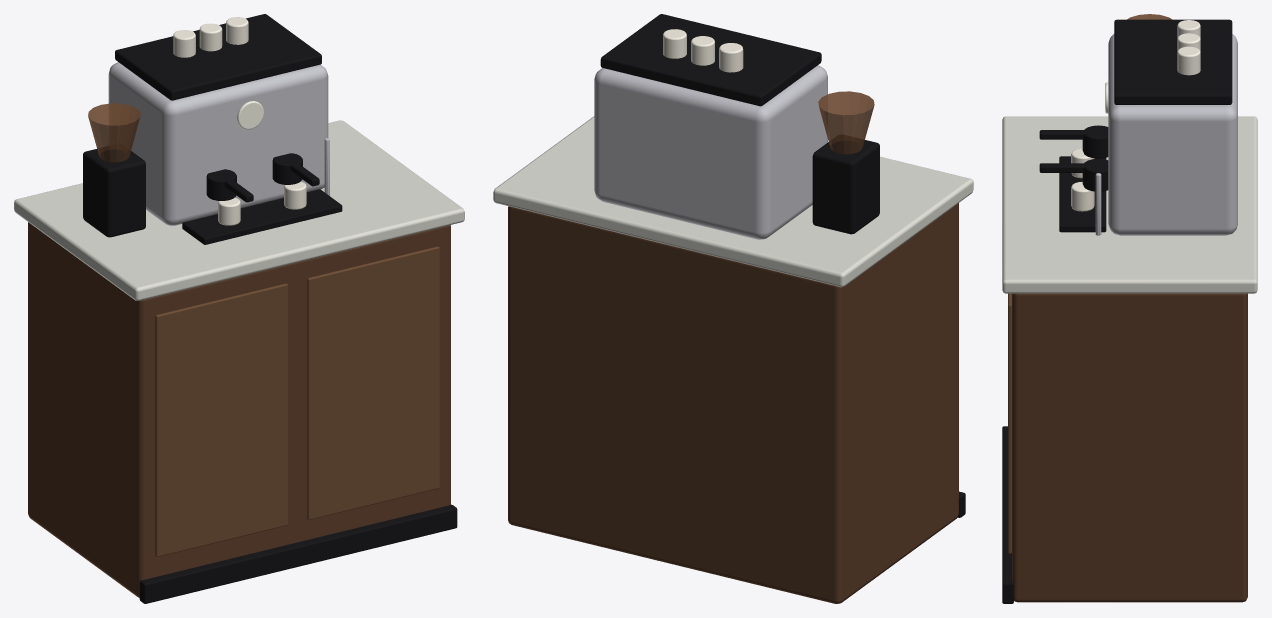
The model's file is espresso_bar.glb.
3 views of the same model, side by side, from view 1: azimuth 30°, elevation 25°; view 2: azimuth 150°, elevation 25°; view 3: azimuth 270°, elevation 25° (orthographic). The views are drawn at different scales.
Parts seen in each view (by area): view 1: Cube, Cube.001, Cube.002, Cube.004, Cube.005, Cube.006, Cube.003, Cube.010, Cube.009, Cone, Cylinder.001, Cylinder (+4 smaller); view 2: Cube, Cube.005, Cube.004, Cube.006, Cube.010, Cone, Cylinder.006, Cylinder.008, Cylinder.007; view 3: Cube, Cube.004, Cube.005, Cube.006, Cube.009, Cube.003, Cube.002, Cylinder, Cylinder.001, Cylinder.008, Cylinder.005, Cube.007 (+2 smaller).
Boxes of the visible parts, x1,y1,x2,y2 form: Cube: [28, 222, 450, 597]; Cube.001: [155, 283, 287, 556]; Cube.002: [307, 246, 439, 519]; Cube.004: [14, 120, 464, 300]; Cube.005: [108, 62, 328, 225]; Cube.006: [115, 14, 321, 100]; Cube.003: [139, 504, 457, 603]; Cube.010: [83, 149, 145, 237]; Cube.009: [182, 189, 342, 244]; Cone: [88, 103, 140, 162]; Cylinder.001: [272, 153, 302, 184]; Cylinder: [206, 169, 236, 200]; Cube: [508, 203, 958, 603]; Cube.005: [594, 65, 827, 239]; Cube.004: [493, 116, 973, 287]; Cube.006: [600, 14, 821, 106]; Cube.010: [812, 140, 879, 234]; Cone: [818, 91, 874, 154]; Cylinder.006: [719, 43, 743, 72]; Cylinder.008: [663, 29, 686, 58]; Cylinder.007: [691, 36, 714, 65]; Cube: [1012, 293, 1247, 602]; Cube.004: [1002, 116, 1257, 293]; Cube.005: [1108, 34, 1237, 235]; Cube.006: [1114, 19, 1232, 104]; Cube.009: [1059, 156, 1106, 232]; Cube.003: [1002, 426, 1013, 603]; Cube.002: [1008, 293, 1011, 553]; Cylinder: [1082, 125, 1108, 158]; Cylinder.001: [1082, 158, 1108, 191]; Cylinder.008: [1177, 46, 1200, 75]; Cylinder.005: [1071, 181, 1094, 211]; Cube.007: [1039, 130, 1084, 139].
Bounding box in the file's own units: 1 × 1.37 × 0.65.
